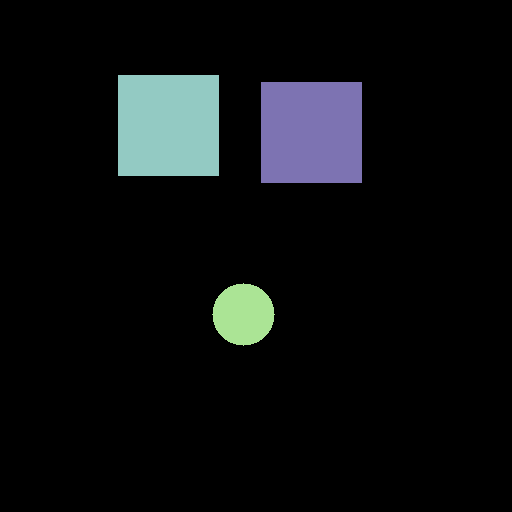circle: (212, 283, 274, 345)
square: (261, 82, 361, 182), (118, 75, 218, 175)
